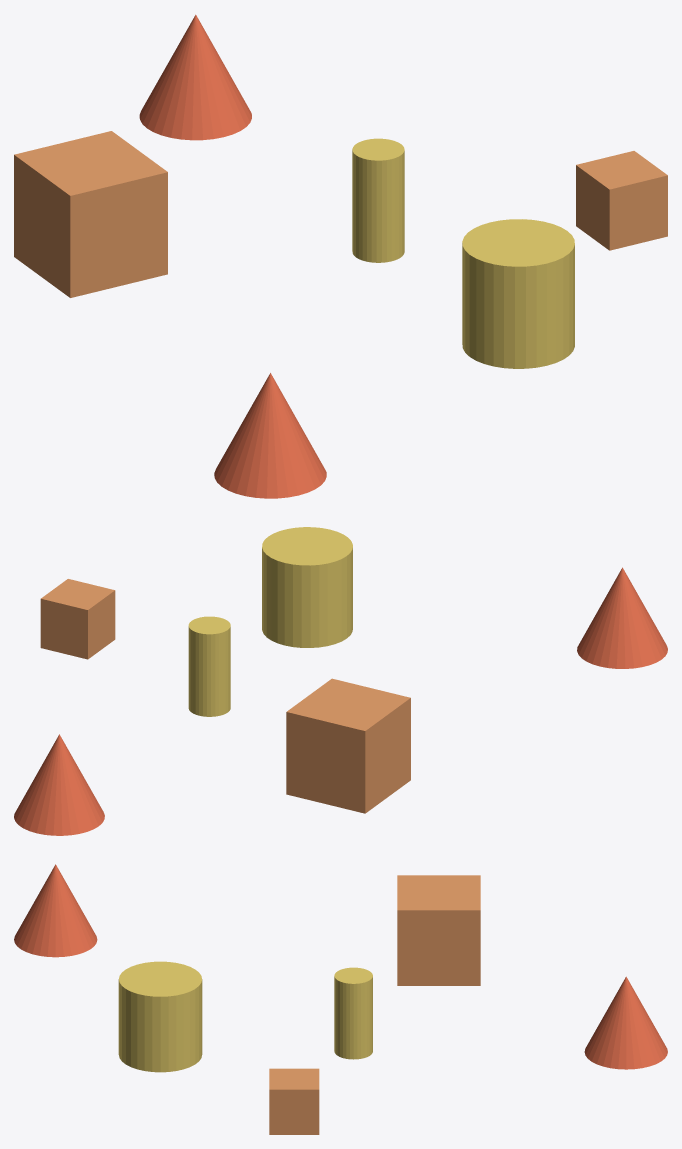
The model's file is lossetaak_kleur.glb.
The picture shows the model from 3 angles, top to bottom: view 1: azimuth 30°, elevation 25°; view 2: azimuth 150°, elevation 25°; view 3: azimuth 270°, elevation 25°; orthographic projection. The views are drawn at different scales.
Parts seen in each view (by area): view 1: Cube.001, Cylinder.001, Cone.001, Cone.002, Cube.002, Cylinder.002; view 2: Cube.001, Cylinder.001, Cone.001, Cone.002, Cube.002, Cylinder.002; view 3: Cube.001, Cylinder.001, Cone.001, Cone.002, Cylinder.002, Cube.002.
Part boxes in pixels (left/top/right/bottom): Cube.001: left=14, top=131, right=167, bottom=297; Cylinder.001: left=462, top=219, right=574, bottom=368; Cone.001: left=139, top=14, right=251, bottom=140; Cone.002: left=214, top=373, right=326, bottom=498; Cube.002: left=576, top=151, right=667, bottom=250; Cylinder.002: left=352, top=138, right=404, bottom=262; Cube.001: left=286, top=678, right=410, bottom=813; Cylinder.001: left=262, top=527, right=352, bottom=647; Cone.001: left=14, top=734, right=104, bottom=835; Cone.002: left=577, top=567, right=667, bottom=668; Cube.002: left=40, top=579, right=115, bottom=659; Cylinder.002: left=188, top=616, right=230, bottom=716; Cube.001: left=397, top=875, right=480, bottom=985; Cylinder.001: left=118, top=961, right=202, bottom=1072; Cone.001: left=584, top=976, right=667, bottom=1069; Cone.002: left=14, top=864, right=97, bottom=957; Cylinder.002: left=334, top=967, right=372, bottom=1059; Cube.002: left=269, top=1068, right=319, bottom=1134.
Bounding box in the file's own units: 1.32 × 0.2187 × 1.71.
